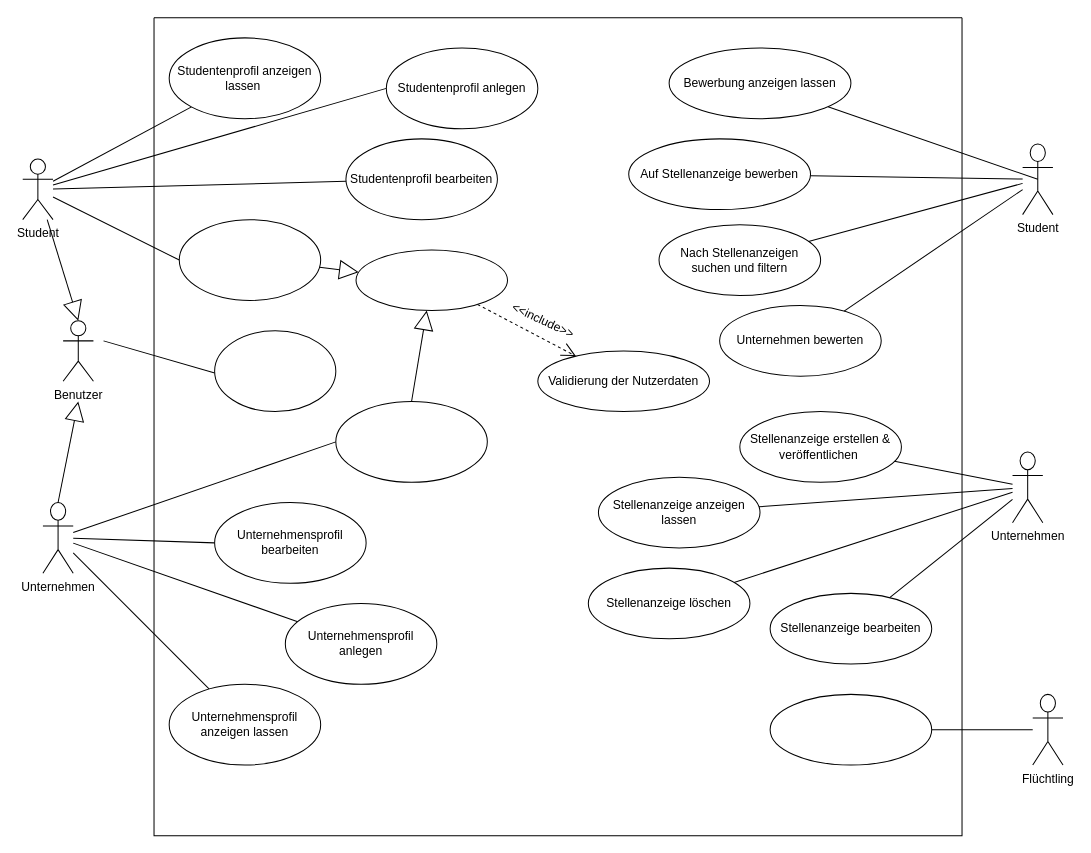
Some shapes in this 1091 by 853 pixel diagram are drawn without their labels. Here are the shapes that lost their labels. From the top down, the box of each, then its label:
(178, 219, 321, 300): Student registrieren
(355, 249, 508, 311): Benutzer registrieren
(214, 330, 336, 412): Login eines registrierten Benutzers
(335, 400, 487, 482): Unternehmen registrieren
(769, 693, 932, 765): Über Kontaktmöglichkeit informieren
